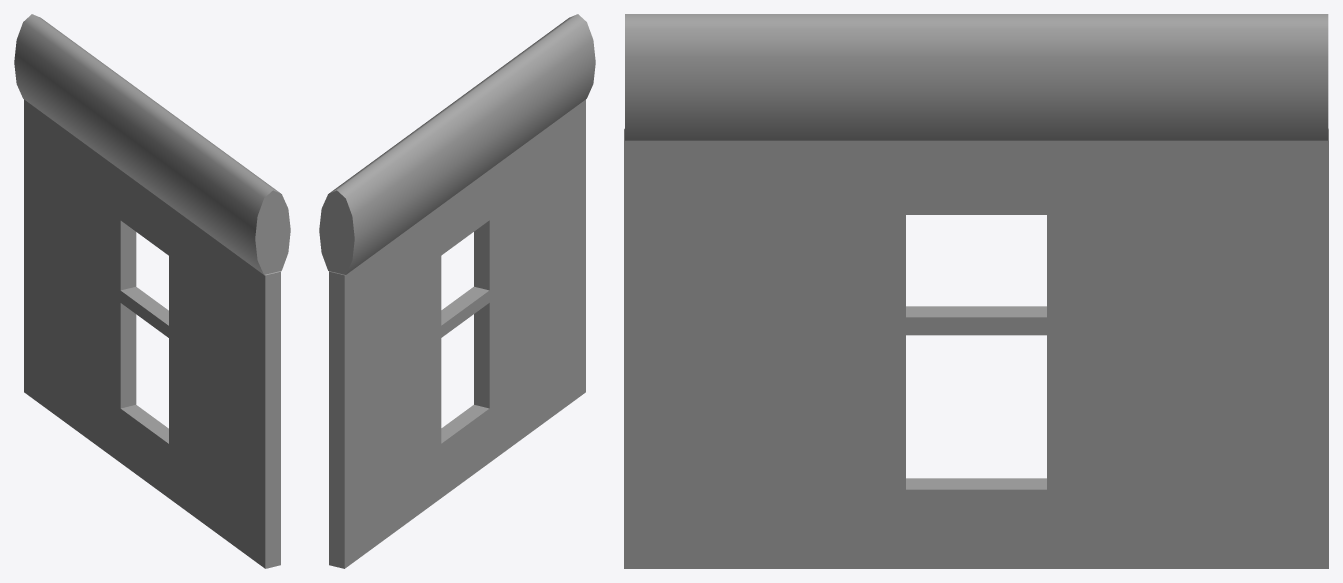
File: AssetsWallMiddle.fbx
3 renders of one model, left to right at view 1: azimuth 30°, elevation 25°; view 2: azimuth 150°, elevation 25°; view 3: azimuth 270°, elevation 25°, orthographic. The views are drawn at different scales.
Visible parts, largest first — view 1: MainMuur; view 2: MainMuur; view 3: MainMuur.
Boxes of the visible parts, x1,y1,x2,y2 form: MainMuur: (14, 14, 290, 568); MainMuur: (319, 14, 595, 568); MainMuur: (624, 14, 1328, 568).
Size of the model in its own units: 53.78 by 544 by 632.
